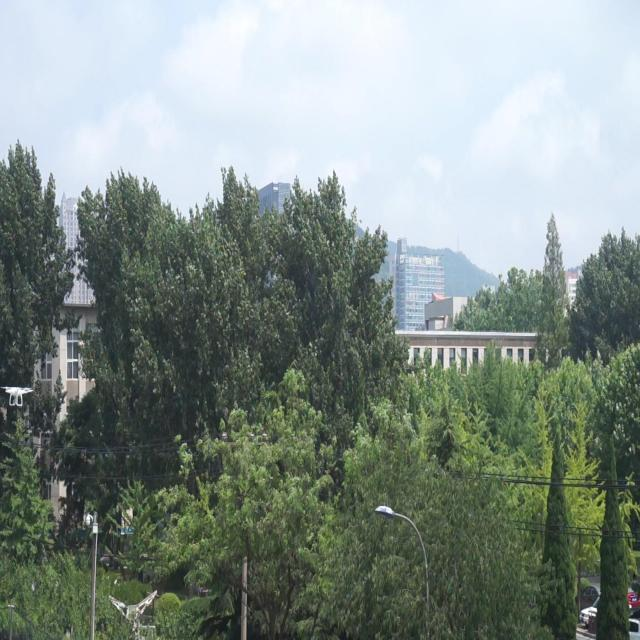UAV: (1, 386, 34, 406)
